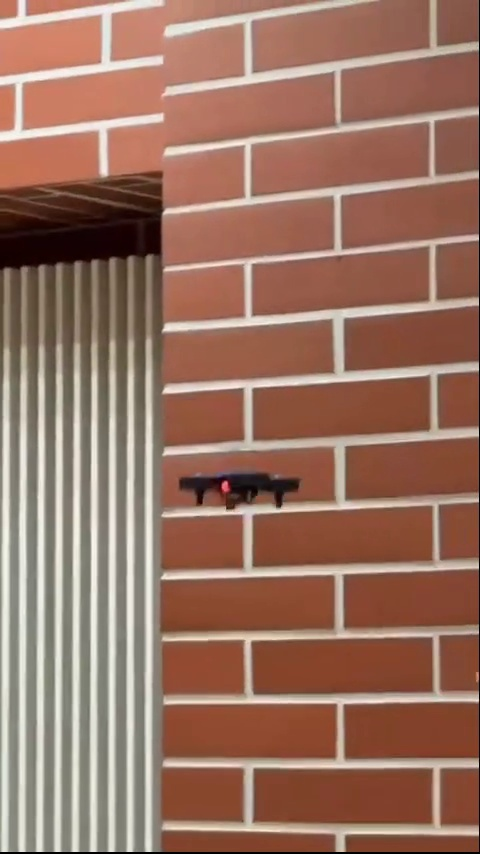drone: (176, 463, 308, 515)
